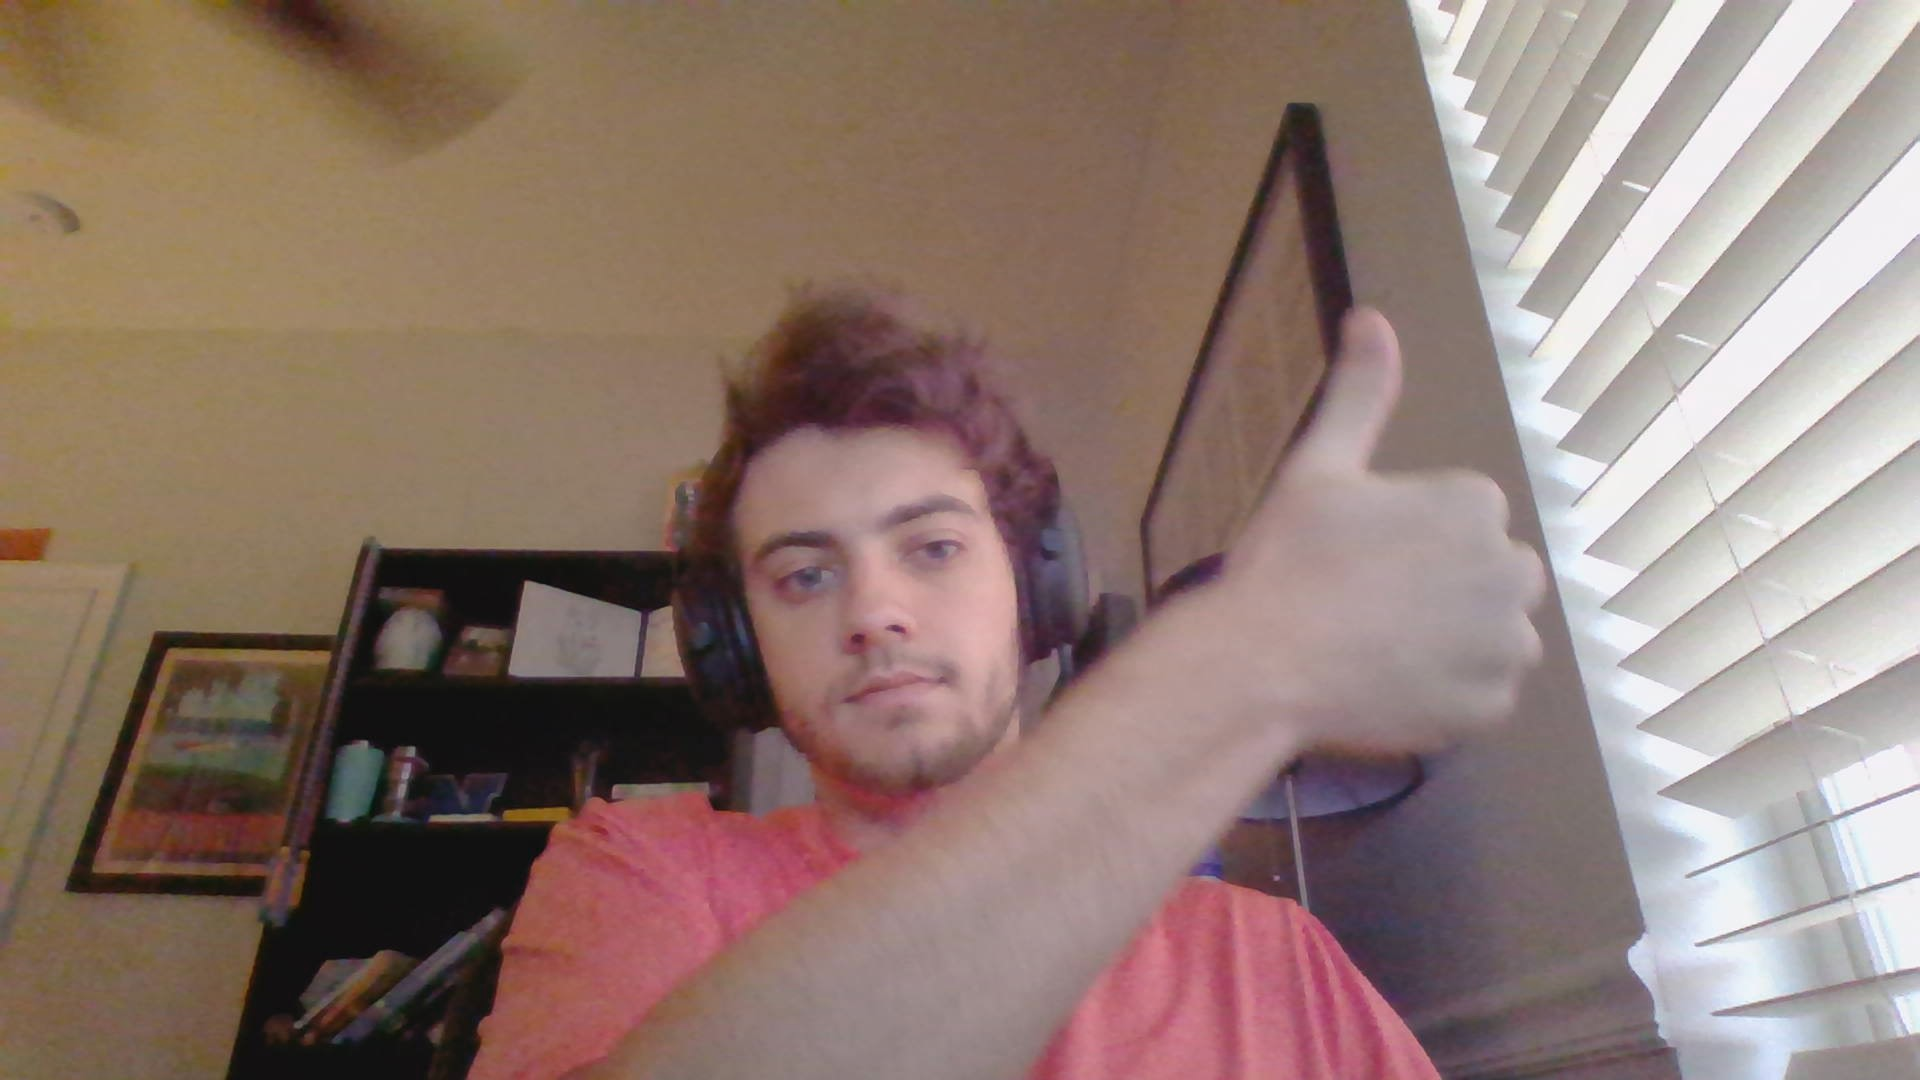Right Thumb Up: (1197, 301, 1571, 767)
